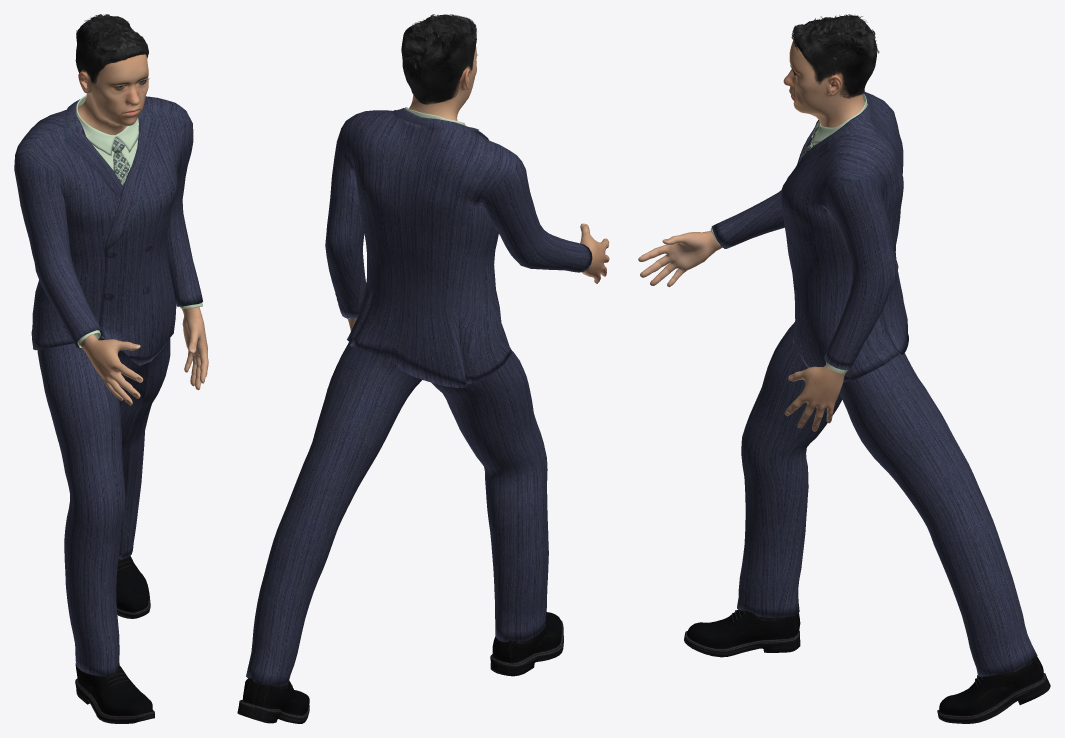
The model's file is uomo-05.glb.
3 views of the same model, side by side, from view 1: azimuth 30°, elevation 25°; view 2: azimuth 150°, elevation 25°; view 3: azimuth 270°, elevation 25° (orthographic). The views are drawn at different scales.
Parts seen in each view (by area): view 1: Human.toigo_male_double-breasted_suit, Human, Human.shoes03, Human.short01; view 2: Human.toigo_male_double-breasted_suit, Human.short01, Human.shoes03, Human; view 3: Human.toigo_male_double-breasted_suit, Human, Human.shoes03, Human.short01.
Part boxes in pixels (x1,y1,x2,y2): Human.toigo_male_double-breasted_suit: (14, 95, 202, 676); Human: (77, 54, 208, 405); Human.shoes03: (75, 555, 154, 723); Human.short01: (75, 14, 148, 84); Human.toigo_male_double-breasted_suit: (246, 107, 592, 685); Human.short01: (401, 14, 476, 104); Human.shoes03: (237, 612, 563, 723); Human: (347, 46, 609, 331); Human.toigo_male_double-breasted_suit: (710, 92, 1037, 676); Human: (638, 40, 865, 431); Human.shoes03: (684, 609, 1050, 723); Human.short01: (791, 14, 879, 98).
Bounding box in the file's own units: 0.5875 × 1.86 × 1.05.
Materials: 12 (12 with a texture image).
